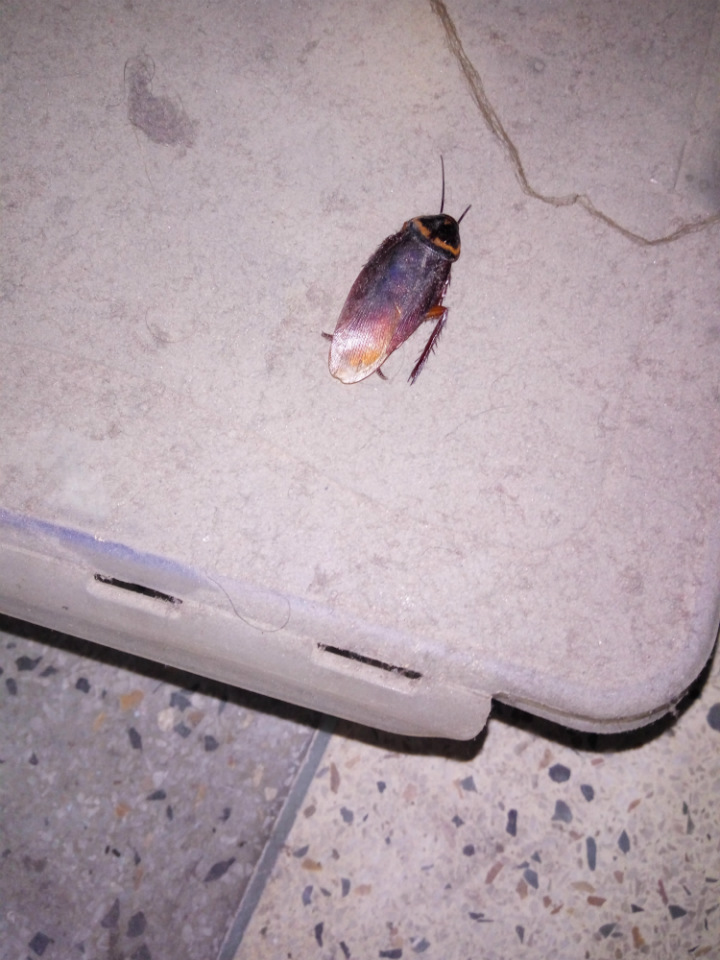cockroach: (247, 127, 551, 418)
